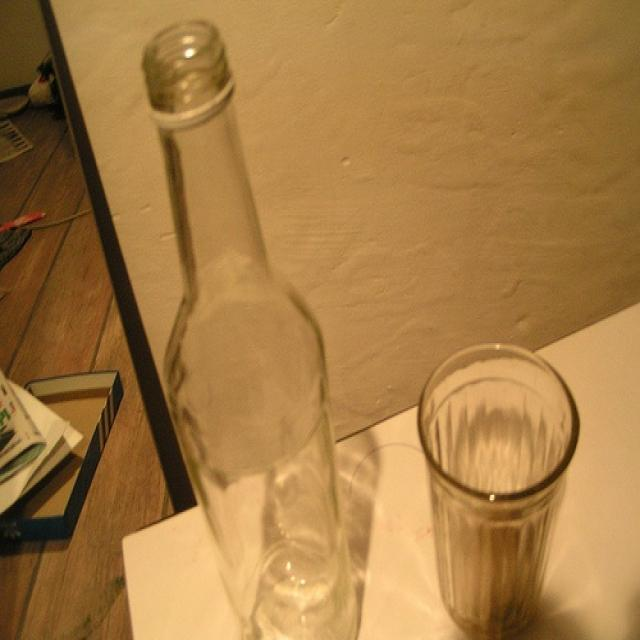bottle: (138, 17, 358, 638)
